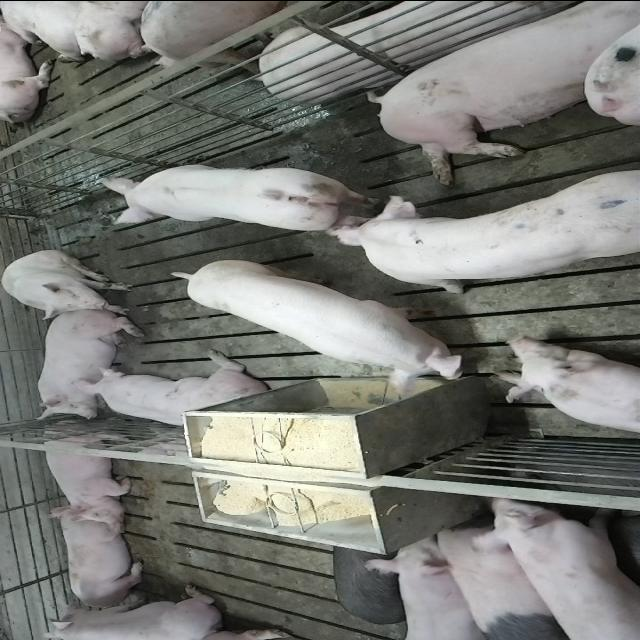Lateral_lying: (362, 5, 636, 186), (261, 0, 578, 102)
Sitting: (4, 250, 138, 318)
Standing: (320, 168, 636, 297), (170, 260, 473, 388), (485, 497, 640, 638), (102, 160, 386, 232), (416, 524, 580, 638), (140, 0, 360, 72), (362, 536, 501, 640)
Sternal_lying: (491, 338, 638, 438), (83, 358, 273, 430), (28, 312, 140, 420), (34, 584, 226, 638), (52, 509, 150, 608), (37, 424, 136, 520)
